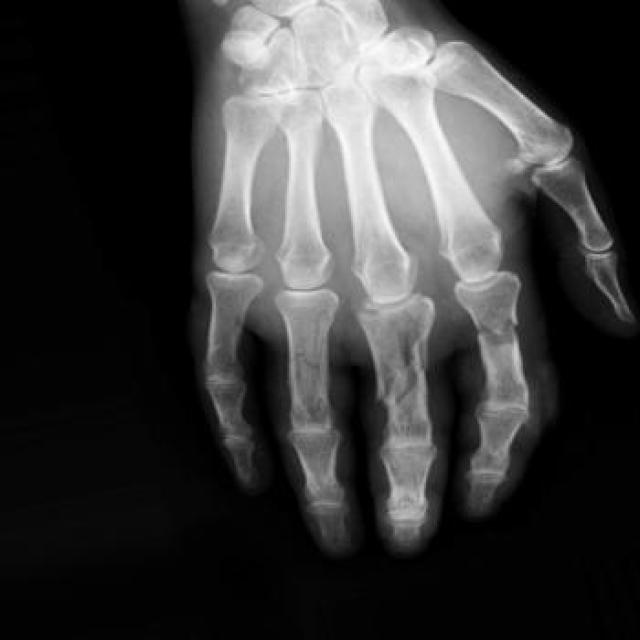Fracture: (363, 330, 442, 420), (469, 302, 529, 358), (281, 327, 339, 382)
